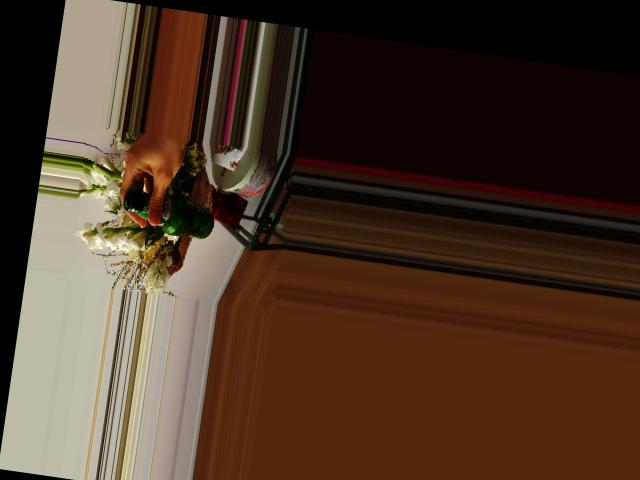beer: (120, 186, 218, 240)
